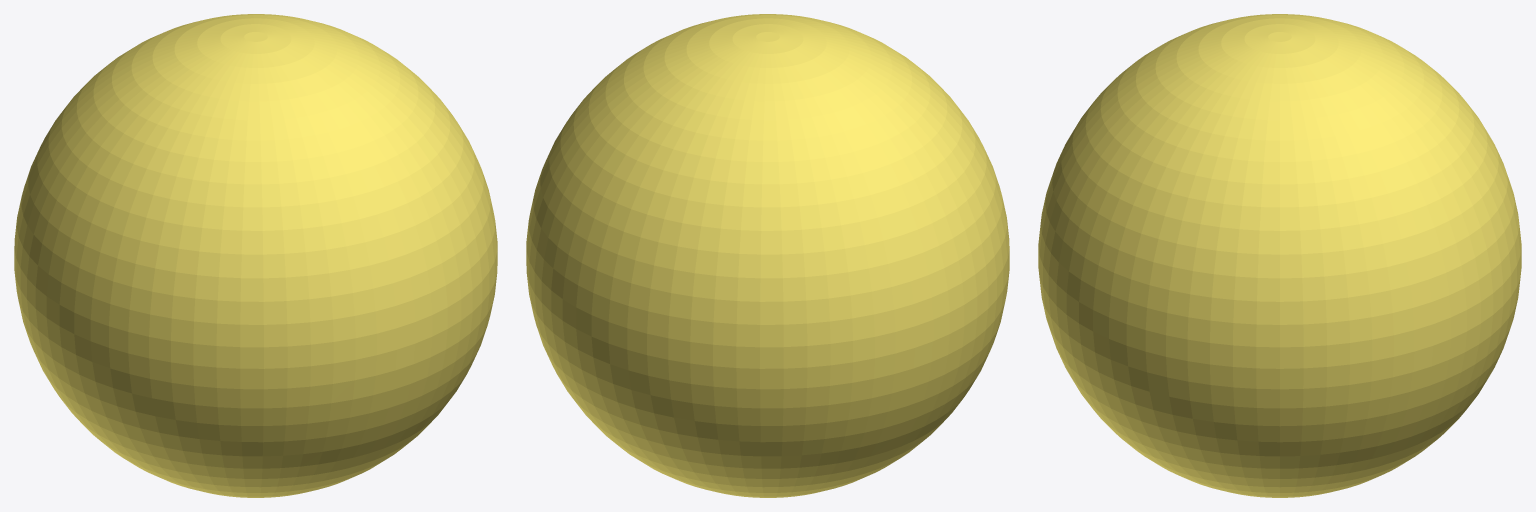
3 renders of one model, left to right at view 1: azimuth 30°, elevation 25°; view 2: azimuth 150°, elevation 25°; view 3: azimuth 270°, elevation 25°, orthographic.
Size of the model in its own units: 23.97 by 23.97 by 23.97.
